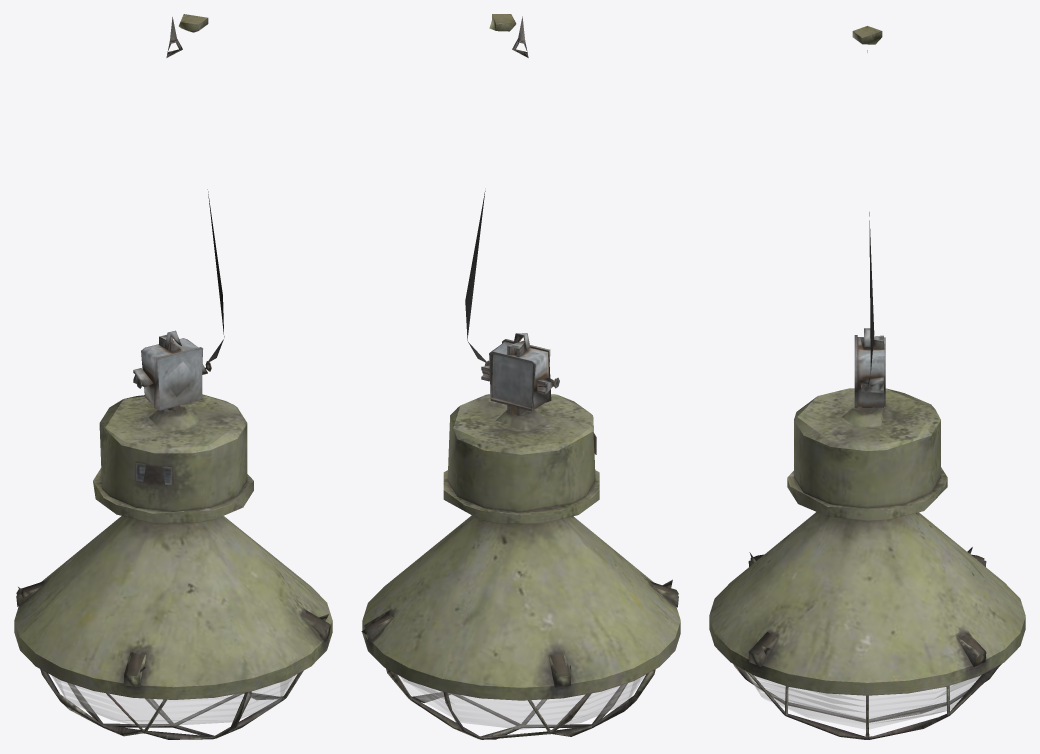
Rendered from hanging_industrial_lamp.gltf.
3 views of the same model, side by side, from view 1: azimuth 30°, elevation 25°; view 2: azimuth 150°, elevation 25°; view 3: azimuth 270°, elevation 25° (orthographic).
Visible parts, largest first — view 1: hanging_industrial_lamp; view 2: hanging_industrial_lamp; view 3: hanging_industrial_lamp.
Part boxes in pixels (x1,y1,x2,y2): hanging_industrial_lamp: (14, 14, 332, 739); hanging_industrial_lamp: (361, 14, 680, 739); hanging_industrial_lamp: (709, 26, 1025, 739).
Size of the model in its own units: 0.5496 by 1.36 by 0.5496.
Materials: 2 (1 with a texture image).
